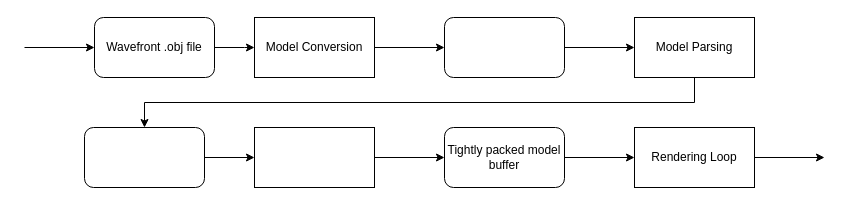
Some shapes in this 850 by 205 pixel diagram are drawn without their labels. The shapes that lost their labels are listed below. From the top down, each one's box as (x1, y1, x2, y2) in pixels, then its label:
(444, 16, 564, 78): Stripped .obj file
(84, 126, 204, 188): Vertex, Normals, UV data
(254, 126, 374, 188): Model initialization
